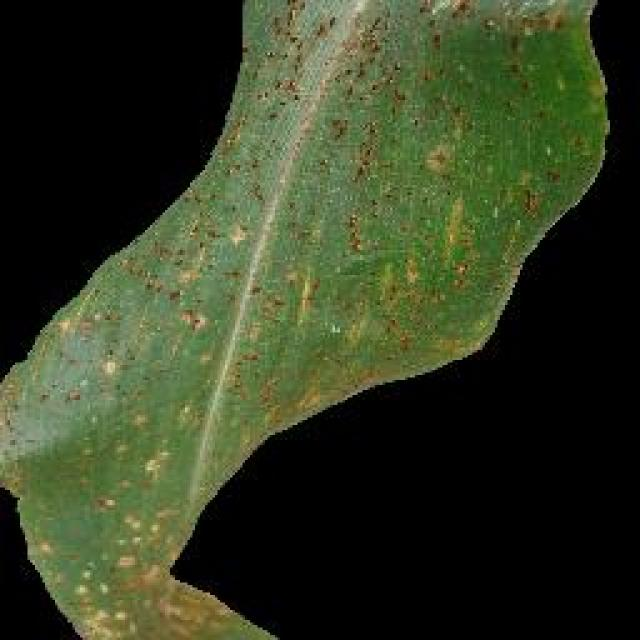Corn Common Rust: (146, 84, 476, 558)
